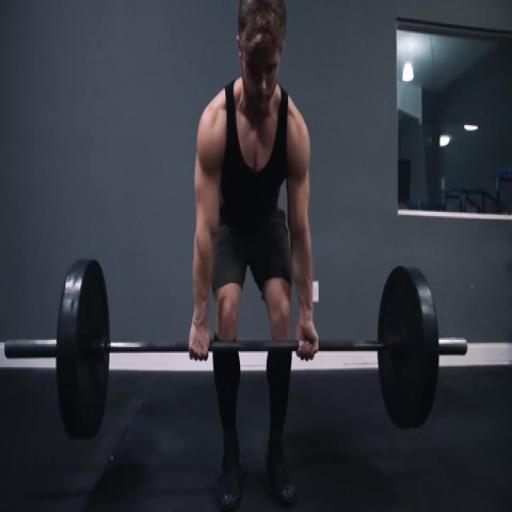exercise: (186, 0, 322, 511)
